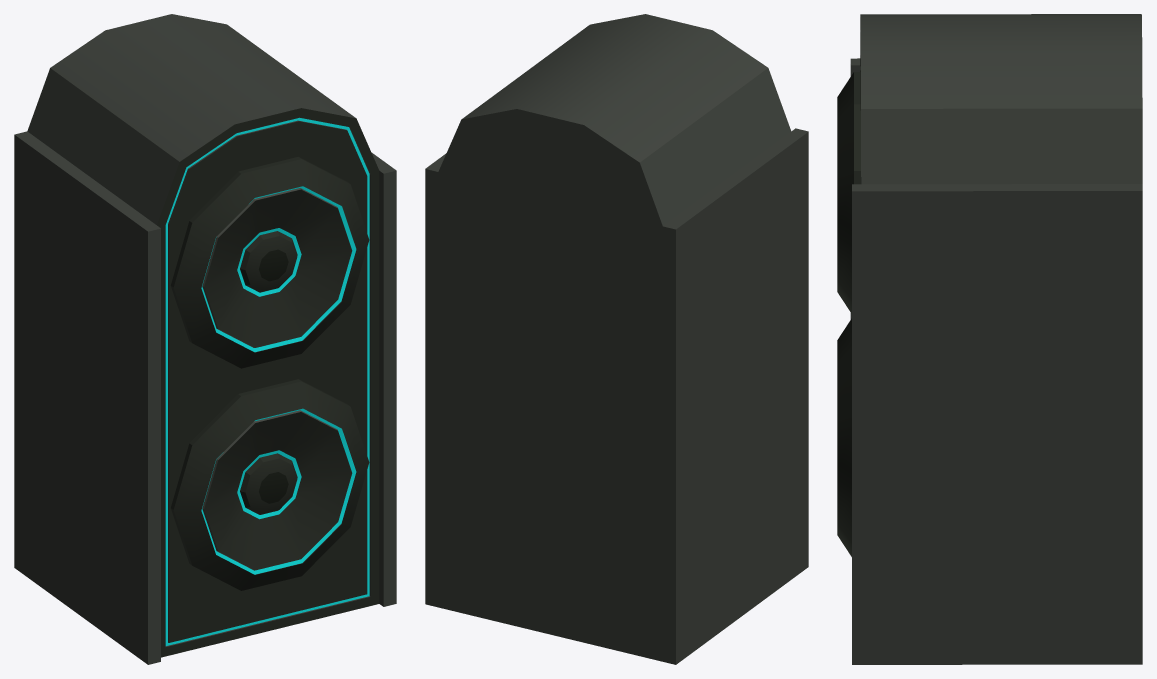
File: Cyberpunk_Speakers.glb
The picture shows the model from 3 angles, left to right: view 1: azimuth 30°, elevation 25°; view 2: azimuth 150°, elevation 25°; view 3: azimuth 270°, elevation 25°; orthographic projection. The views are drawn at different scales.
Parts seen in each view (by area): view 1: jukebox; view 2: jukebox; view 3: jukebox.
Boxes of the visible parts, bbox=[...] form: jukebox: bbox=[14, 14, 396, 664]; jukebox: bbox=[425, 14, 808, 664]; jukebox: bbox=[837, 14, 1142, 664].
Size of what is drawn, in the model's own units: 0.7873 by 1.55 by 0.7625.
1 material, 1 textured.
